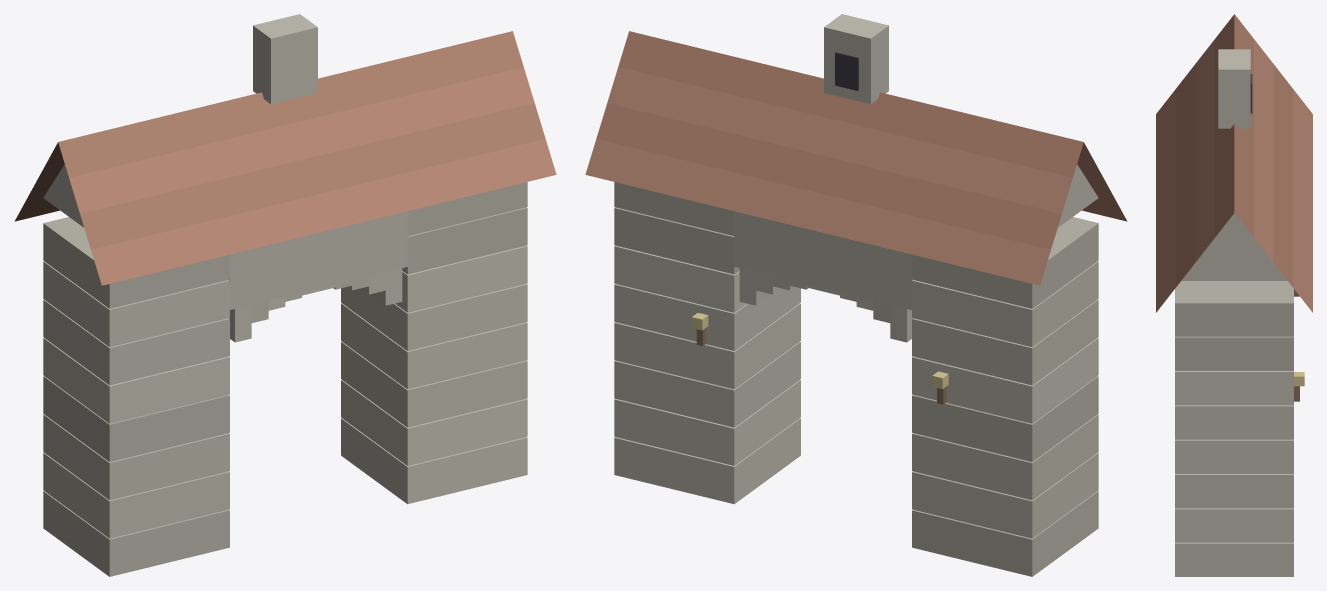
File: abbey_gate.glb
The picture shows the model from 3 angles, left to right: view 1: azimuth 30°, elevation 25°; view 2: azimuth 150°, elevation 25°; view 3: azimuth 270°, elevation 25°; orthographic projection. The views are drawn at different scales.
Parts seen in each view (by area): view 1: abbey_gate; view 2: abbey_gate; view 3: abbey_gate.
Part boxes in pixels (x1,y1,x2,y2): abbey_gate: (14,14,556,576); abbey_gate: (585,14,1127,576); abbey_gate: (1156,14,1312,576).
Bounding box in the file's own units: 8.7 × 8.69 × 2.9.
